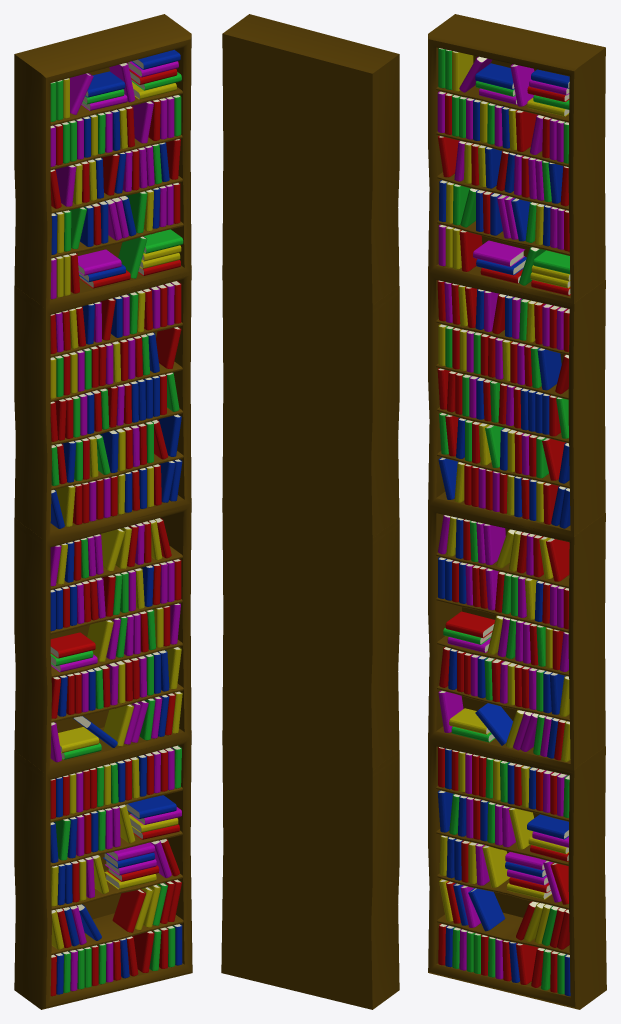
Rendered from bookshelf_b.fbx.
3 renders of one model, left to right at view 1: azimuth 30°, elevation 25°; view 2: azimuth 150°, elevation 25°; view 3: azimuth 330°, elevation 25°, orthographic.
Visible parts, largest first — view 1: books, shelf; view 2: shelf; view 3: books, shelf.
Boxes of the visible parts, <box> form: books: <box>50,49,183,996</box>; shelf: <box>14,14,192,1009</box>; shelf: <box>221,14,399,1009</box>; books: <box>437,48,570,996</box>; shelf: <box>428,14,606,1009</box>.
Bounding box in the file's own units: 94.85 × 563 × 31.41.
